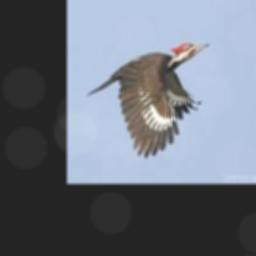Woodpecker: (86, 41, 208, 158)
